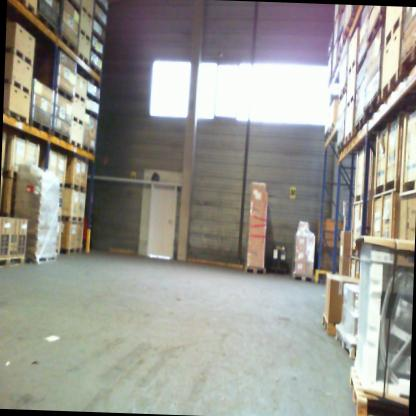pallet: (350, 364, 410, 416), (380, 69, 414, 107), (363, 88, 386, 133), (396, 36, 416, 84), (332, 325, 360, 358), (372, 178, 403, 206), (367, 6, 387, 48), (385, 12, 405, 50), (35, 14, 61, 41), (5, 46, 35, 68), (321, 307, 342, 338), (3, 107, 31, 127), (4, 76, 32, 96), (0, 256, 26, 277), (51, 126, 73, 150), (58, 32, 79, 56), (29, 116, 53, 136), (352, 190, 376, 209), (13, 0, 38, 17), (400, 175, 416, 198), (53, 85, 73, 103), (289, 273, 316, 286), (322, 118, 334, 147), (356, 115, 370, 139), (336, 139, 352, 158), (344, 52, 355, 79), (343, 91, 355, 115), (63, 182, 87, 194), (26, 254, 58, 263), (57, 246, 83, 257), (79, 24, 93, 44), (244, 263, 267, 275), (88, 59, 103, 76), (79, 5, 94, 22), (60, 214, 85, 224), (85, 91, 101, 106), (84, 108, 100, 122), (73, 91, 87, 106), (77, 52, 90, 68), (71, 115, 84, 130), (81, 144, 96, 157), (346, 128, 354, 148), (4, 168, 18, 179), (70, 138, 82, 150), (56, 179, 68, 190), (340, 84, 346, 101)
